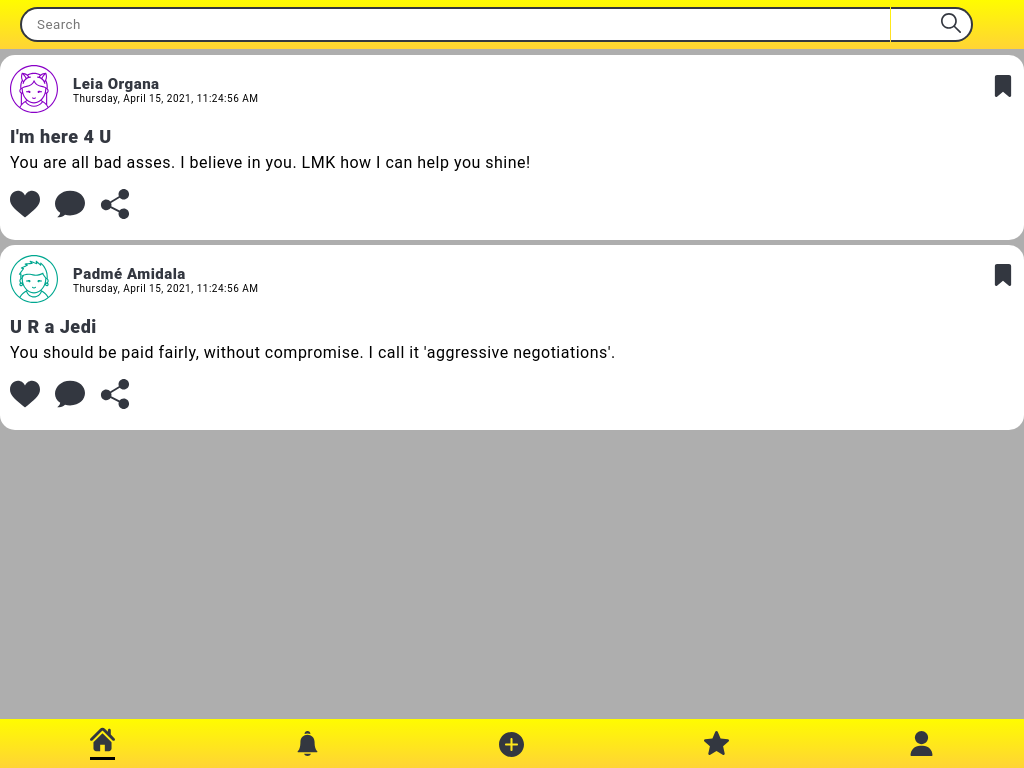
Test: Expanded Post View › Should displays post replies
This screenshot has width=1024, height=768.
Click the picture with test id "expanded-view-button" below "I'm here 4 U": (70, 204) [55,189,85,219]
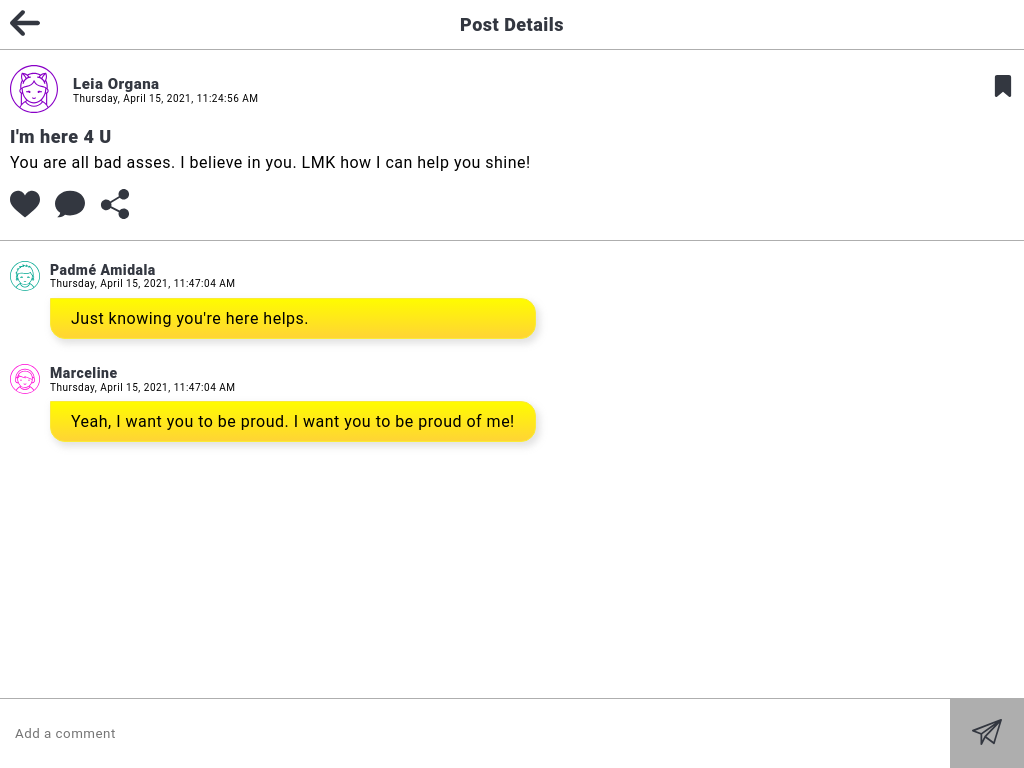
Check: the text "Just knowing" is shown, box [71,309,309,328]
